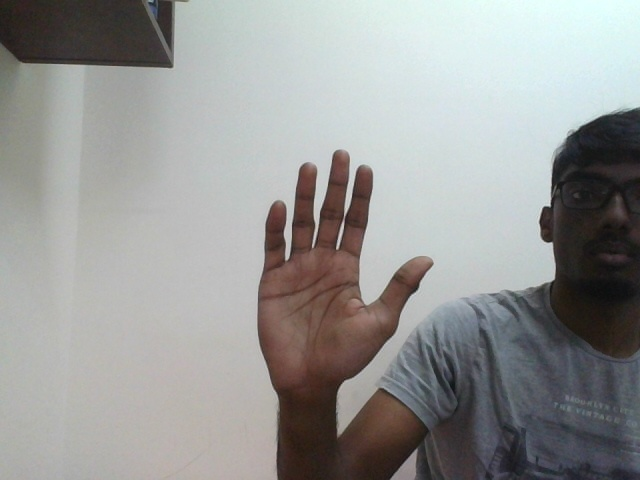Hello: (259, 148, 435, 365)
